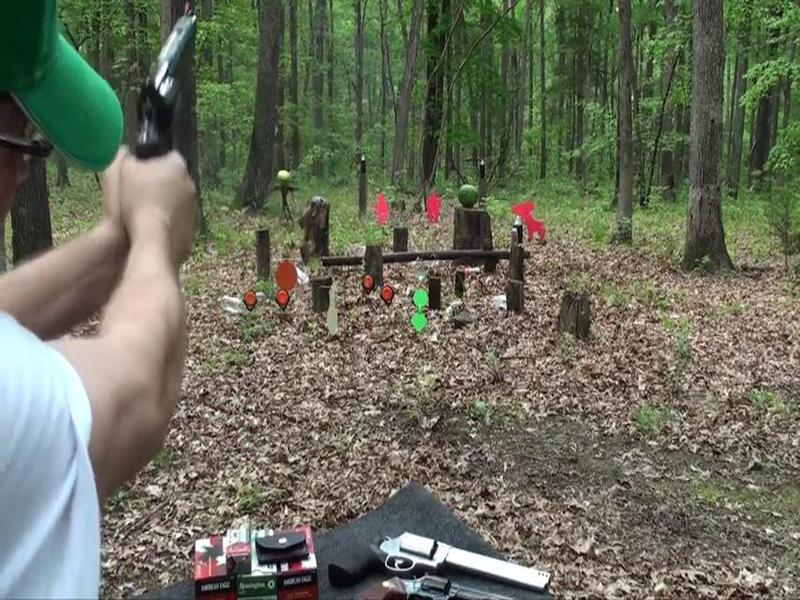Revolver: (115, 7, 214, 175)
